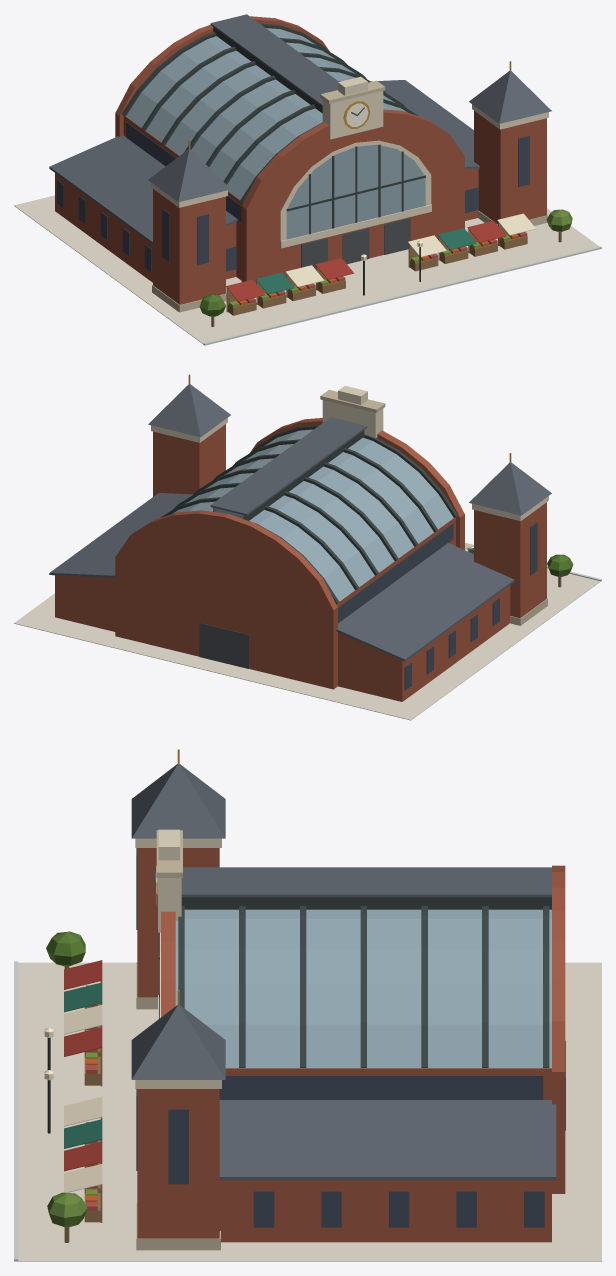
File: markethall.glb
3 views of the same model, one above another, from view 1: azimuth 30°, elevation 25°; view 2: azimuth 150°, elevation 25°; view 3: azimuth 270°, elevation 25° (orthographic). The views are drawn at different scales.
Visible parts, largest first — view 1: markethall; view 2: markethall; view 3: markethall.
Boxes of the visible parts, left/top/right/bottom form: markethall: left=14, top=14, right=601, bottom=345; markethall: left=14, top=374, right=601, bottom=720; markethall: left=14, top=749, right=601, bottom=1261.
Bounding box in the file's own units: 48 × 20.6 × 40.
